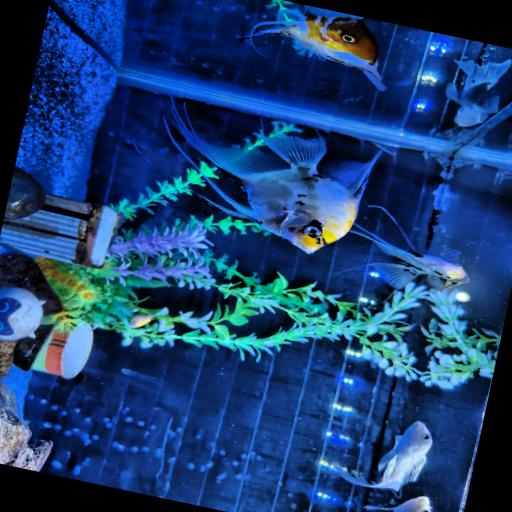Fish: (174, 110, 380, 253), (238, 9, 384, 90), (350, 205, 468, 290), (334, 421, 431, 490), (445, 60, 510, 127), (453, 60, 511, 102), (445, 83, 498, 127), (364, 496, 430, 511), (129, 314, 153, 328)
